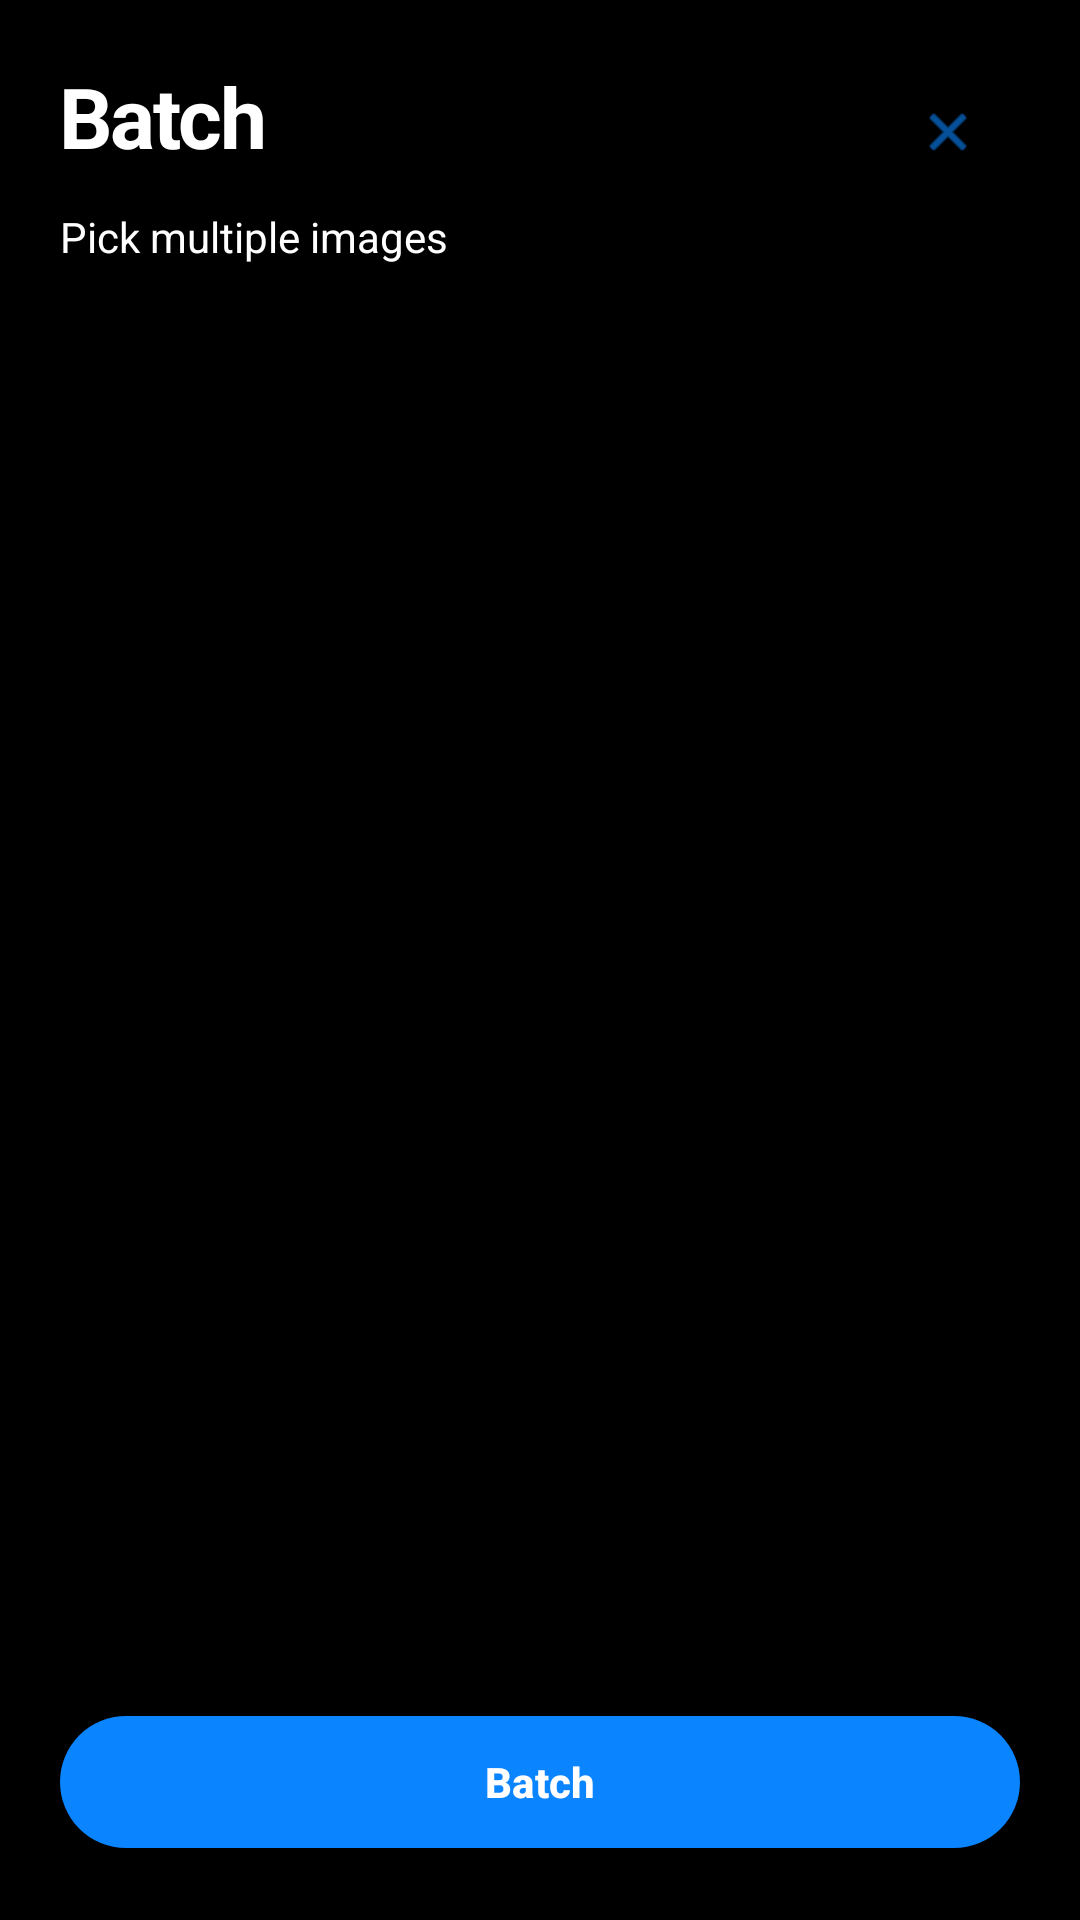

Icons on this 1080*1920 Android screen, each with the point to tap as [x,y]:
close clear cancel: [948,132]
